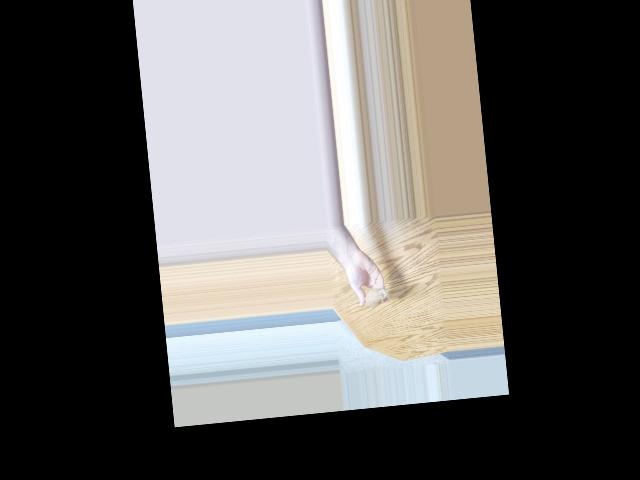sweet_potato: (361, 287, 388, 314)
